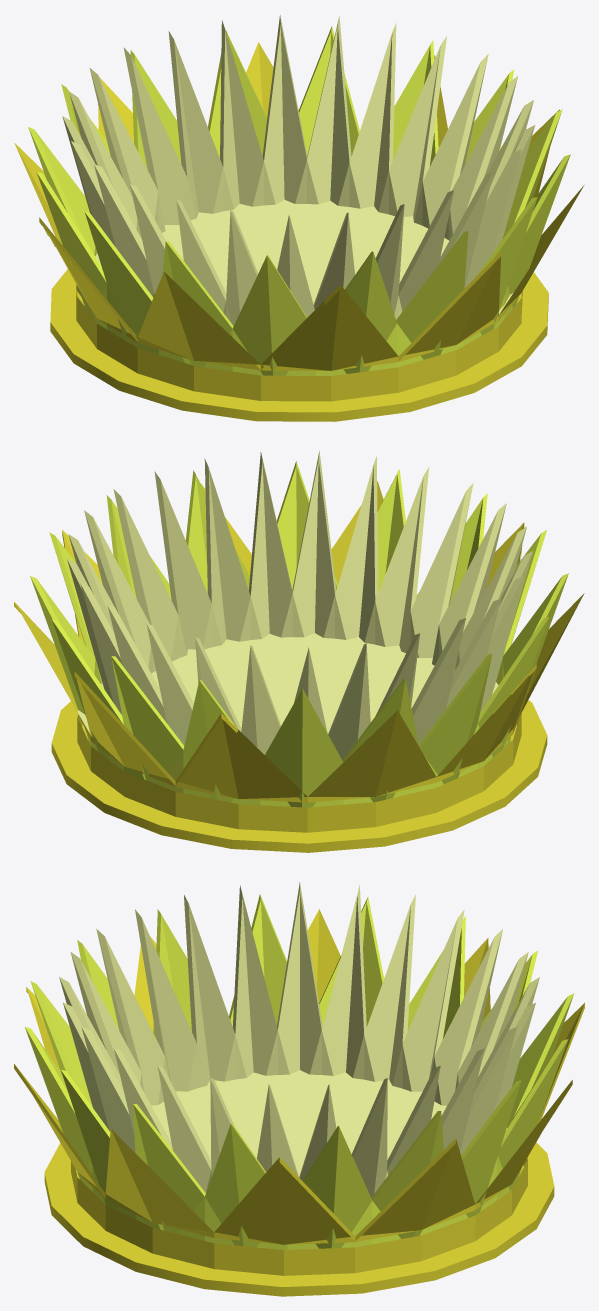
Rendered from portal_abrir_000039.obj.
3 views of the same model, one above another, from view 1: azimuth 30°, elevation 25°; view 2: azimuth 150°, elevation 25°; view 3: azimuth 270°, elevation 25° (orthographic). The views are drawn at different scales.
Parts seen in each view (by area): view 1: Cylinder.001, pCylinder1, Cylinder; view 2: Cylinder.001, pCylinder1, Cylinder; view 3: Cylinder.001, pCylinder1, Cylinder.
Boxes of the visible parts, x1=… form: Cylinder.001: x1=62, y1=15, x2=534, y2=325; pCylinder1: x1=14, y1=42, x2=584, y2=421; Cylinder: x1=28, y1=26, x2=570, y2=375; Cylinder.001: x1=67, y1=450, x2=532, y2=760; pCylinder1: x1=14, y1=481, x2=584, y2=852; Cylinder: x1=30, y1=461, x2=568, y2=807; Cylinder.001: x1=59, y1=882, x2=539, y2=1197; pCylinder1: x1=14, y1=909, x2=584, y2=1296; Cylinder: x1=25, y1=894, x2=574, y2=1249.
Bounding box in the file's own units: 6.9 × 2.67 × 6.7.
4 materials, 4 textured.
